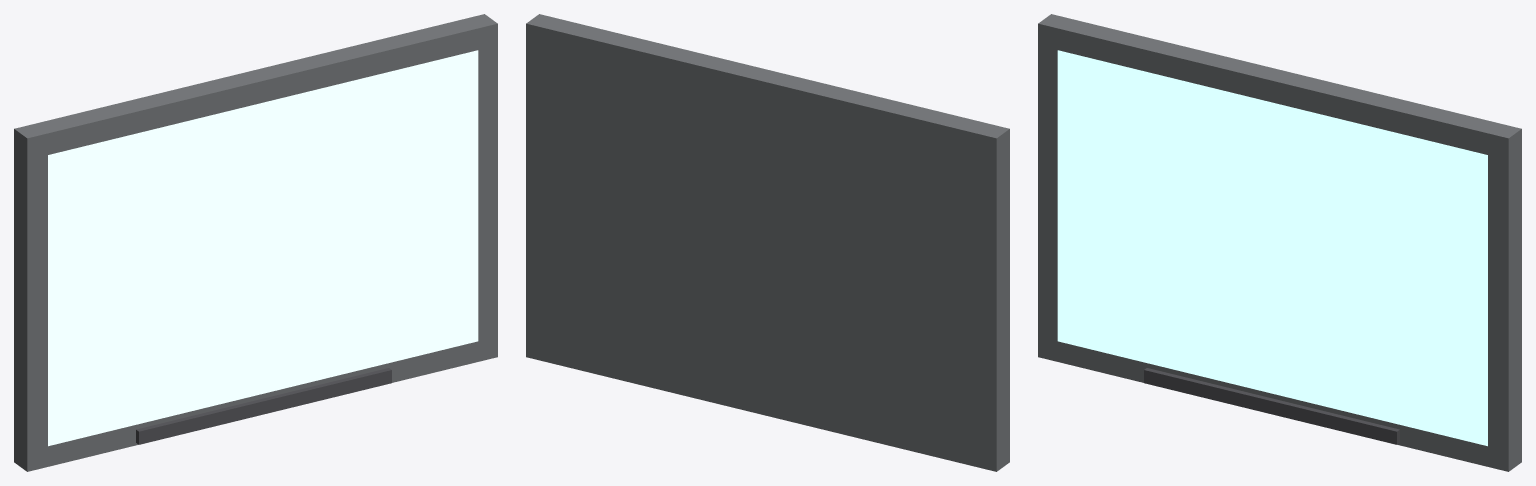
The model's file is telescreen_wall.glb.
3 views of the same model, side by side, from view 1: azimuth 30°, elevation 25°; view 2: azimuth 150°, elevation 25°; view 3: azimuth 330°, elevation 25° (orthographic).
Visible parts, largest first — view 1: telescreen_wall; view 2: telescreen_wall; view 3: telescreen_wall.
Boxes of the visible parts, x1,y1,x2,y2 form: telescreen_wall: [14, 14, 497, 471]; telescreen_wall: [526, 14, 1009, 471]; telescreen_wall: [1038, 14, 1521, 471].
Size of the model in its own units: 1.86 by 1.26 by 0.11.
